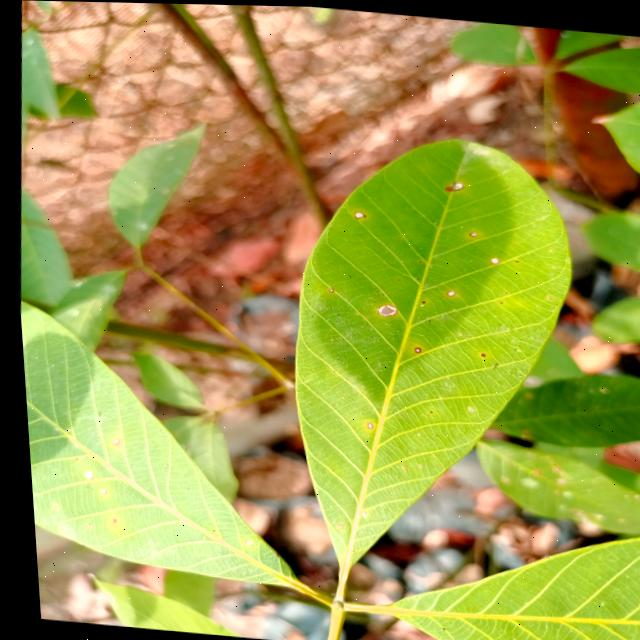Colletotrichum: (372, 301, 394, 314), (487, 254, 495, 261), (443, 287, 451, 293), (465, 229, 473, 234), (361, 420, 367, 426), (410, 344, 416, 350), (475, 350, 481, 353), (325, 286, 329, 290), (417, 298, 421, 301)
